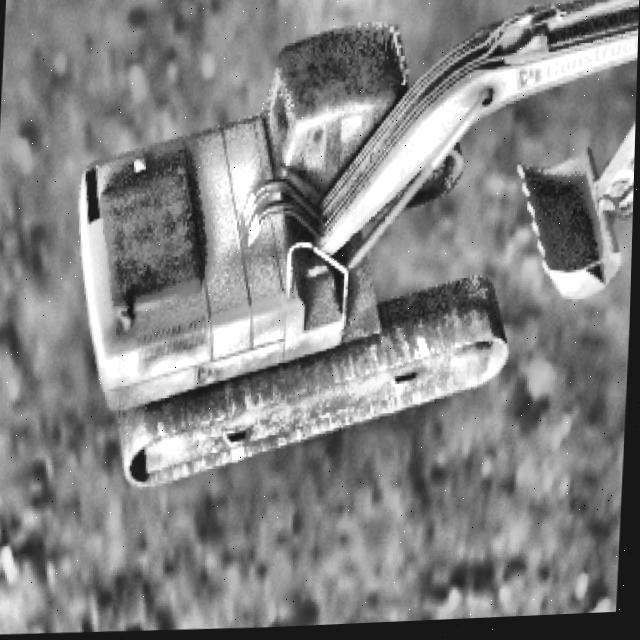excavator: (67, 0, 640, 495)
